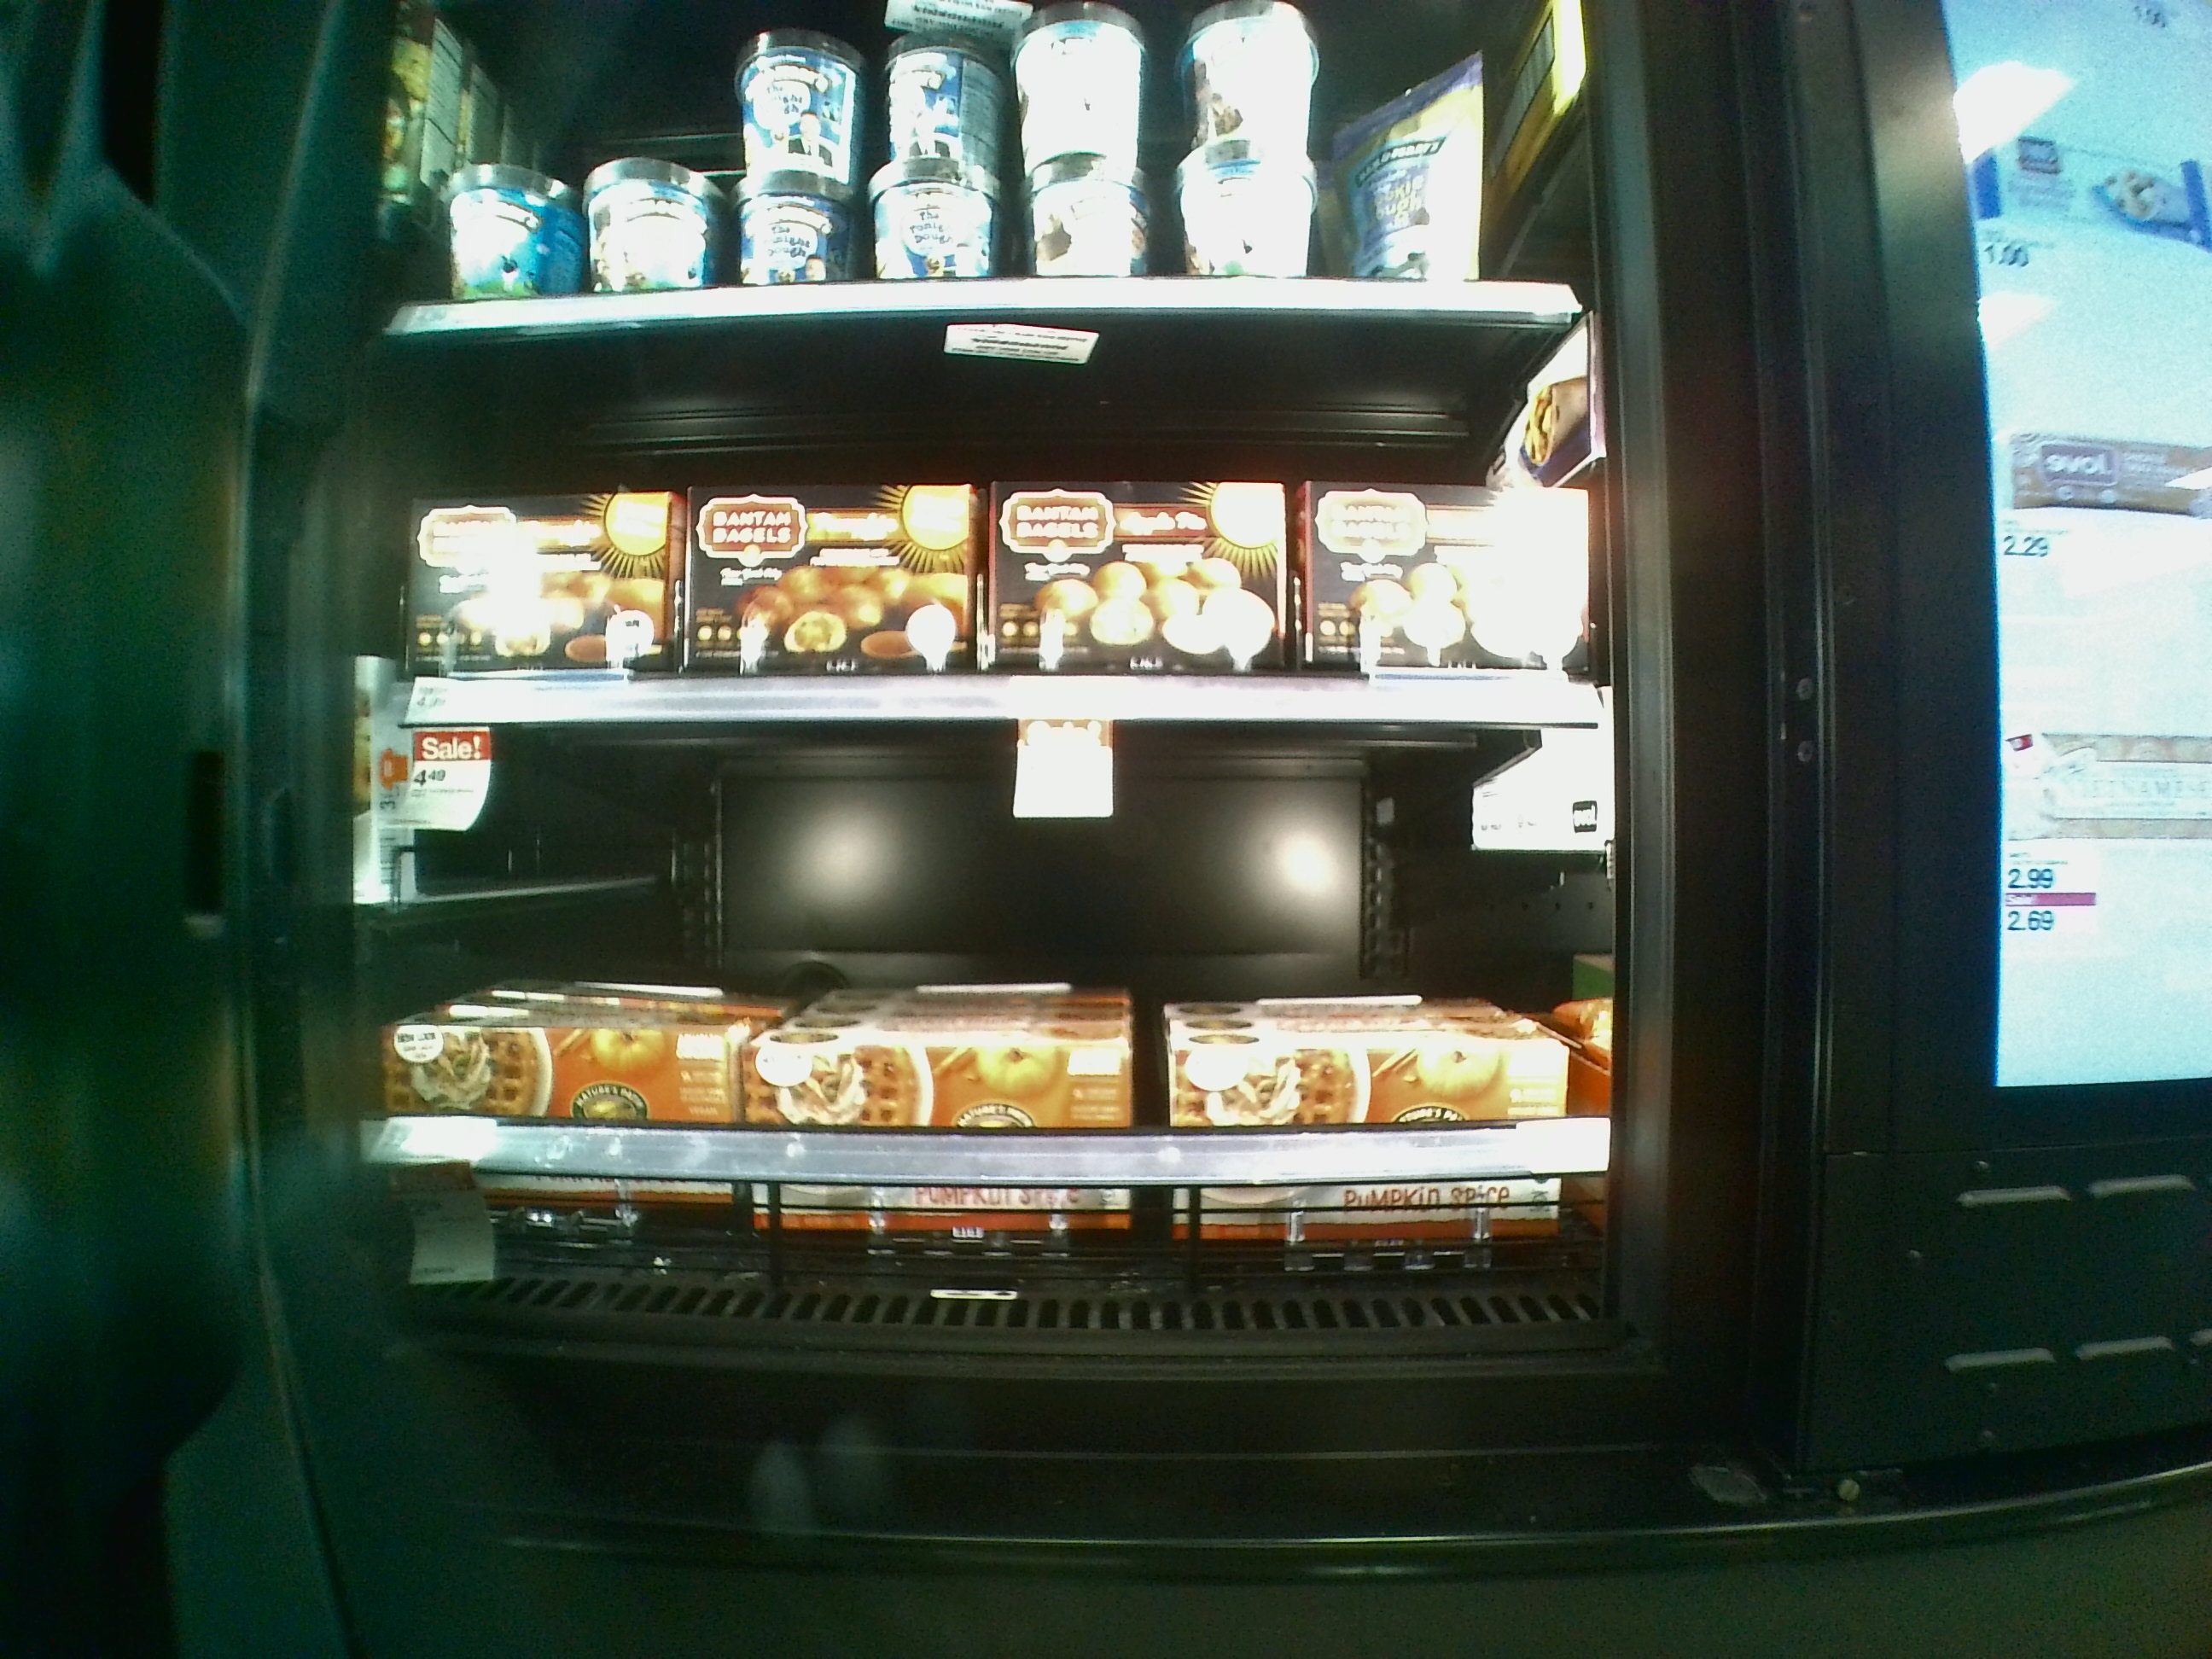shelf: (381, 690, 1627, 1351), (383, 329, 1608, 741)
